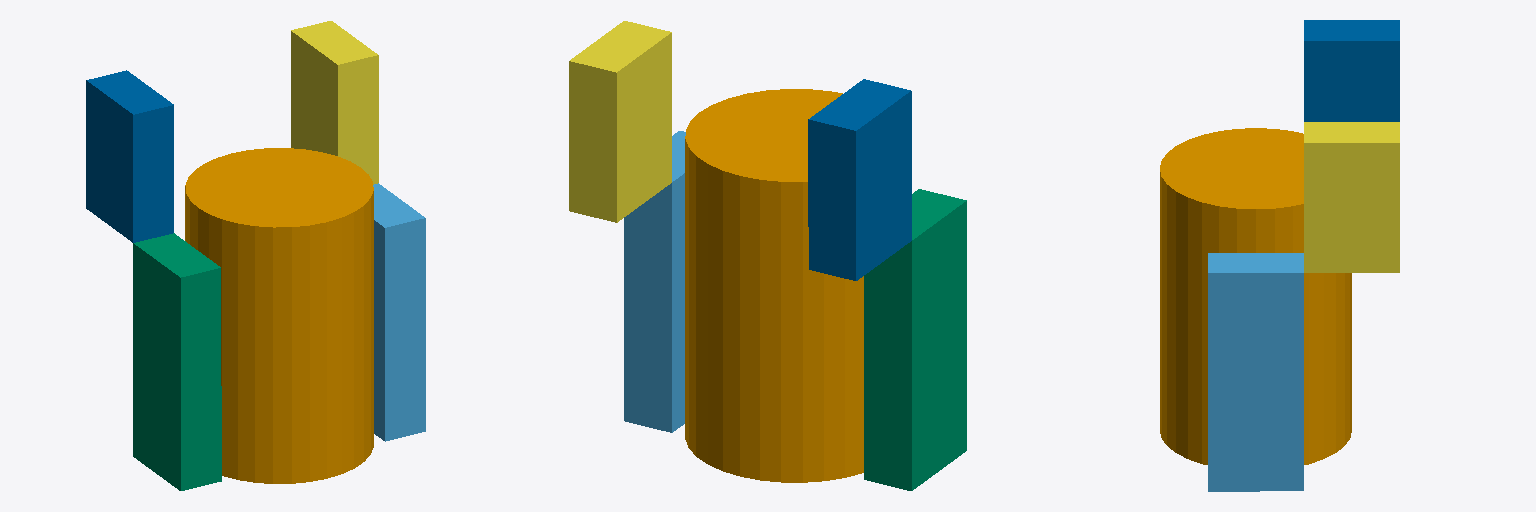
The robot description file, URDF, robot "myrobot":
<?xml version="1.0"?>
<robot name="myrobot">
  <link name="base_link">
    <visual>
      <origin xyz="0 0 0.3"/>
      <geometry>
        <cylinder length="0.6" radius="0.2"/>
      </geometry>
    </visual>
  </link>
  <link name="right_leg">
    <visual>
      <origin rpy="0 1.57 1.57"/>
      <geometry>
        <box size="0.5 0.1 0.2"></box>
      </geometry>
    </visual>
  </link>

  <link name="left_leg">
    <visual>
      <origin rpy="1.57 1.57 0"/>
      <geometry>
        <box size="0.5 0.1 0.2"></box>
      </geometry>
    </visual>
  </link>
 
  <link name="right_finger">
    <visual>
      <origin xyz="0 0.1 0.15" rpy="0 -1.57 0"/> 
      <geometry>
        <box size="0.3 0.2 0.1"></box>
      </geometry>
    </visual>
  </link>
 
  <link name="left_finger">
    <visual>
      <origin xyz="0 0.1 0.15" rpy="0 -1.57 0"/> <!--  step02-->
      <geometry>
        <box size="0.3 0.2 0.1"></box>
      </geometry>
    </visual>
  </link>

 
  <joint name="base2right_leg" type="revolute">
    <parent link="base_link" />
    <child link="right_leg" />
    <origin xyz="0.25 0 0.25"/>
    <limit lower="0" upper="1.57" effort="1" velocity="1" />
  </joint>

  <joint name="base2left_leg" type="revolute">
    <parent link="base_link" />
    <child link="left_leg" />
    <origin xyz="-0.25 0 0.25"/>
    <limit lower="0" upper="1.57" effort="1" velocity="1" />
  </joint>

  <joint name="right_leg2right_finger" type="revolute">
    <parent link="right_leg" />
    <child link="right_finger" />
    <limit lower="-1.57" upper="0" effort="1" velocity="1" />
    <origin xyz="0 0.1 0.25"/>
  </joint>

  <joint name="left_leg2left_finger" type="revolute">
    <parent link="left_leg" />
    <child link="left_finger" />
    <limit lower="-1.57" upper="0" effort="1" velocity="1" />
    <origin xyz="0 0.1 0.25"/> <!--  step01-->
  </joint>




</robot>

--- Render facts (derived) ---
3 views of the same robot in one strip: view 1: azimuth 30°, elevation 25°; view 2: azimuth 150°, elevation 25°; view 3: azimuth 270°, elevation 25° (orthographic).
Robot: myrobot — 5 links, 4 joints (4 revolute); root link base_link; default pose: all joints at 0.
Visible links, largest first — view 1: base_link, left_leg, left_finger, right_leg, right_finger; view 2: base_link, left_leg, left_finger, right_finger, right_leg; view 3: base_link, right_leg, right_finger, left_finger.
Link boxes in pixels (<box>): base_link: <box>185,148,373,483</box>; left_leg: <box>133,233,221,490</box>; left_finger: <box>86,70,173,242</box>; right_leg: <box>373,183,425,441</box>; right_finger: <box>291,21,378,184</box>; base_link: <box>685,89,863,482</box>; left_leg: <box>864,189,966,490</box>; left_finger: <box>808,79,911,280</box>; right_finger: <box>569,21,671,222</box>; right_leg: <box>624,131,685,432</box>; base_link: <box>1160,128,1351,464</box>; right_leg: <box>1208,253,1303,491</box>; right_finger: <box>1304,122,1399,272</box>; left_finger: <box>1304,20,1399,121</box>.
Size in the robot's own frame: 0.6004 by 0.5 by 0.8001 metres.
Geometry: primitives only (box / cylinder / sphere), no mesh files.
